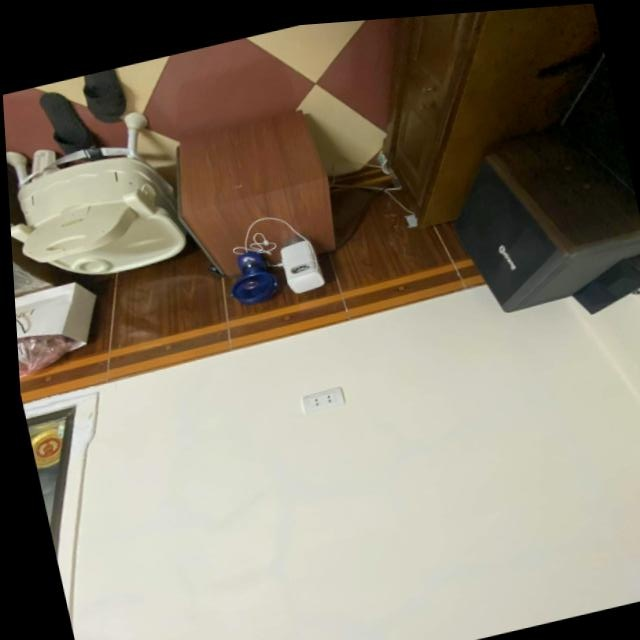outlet: (301, 386, 346, 414)
